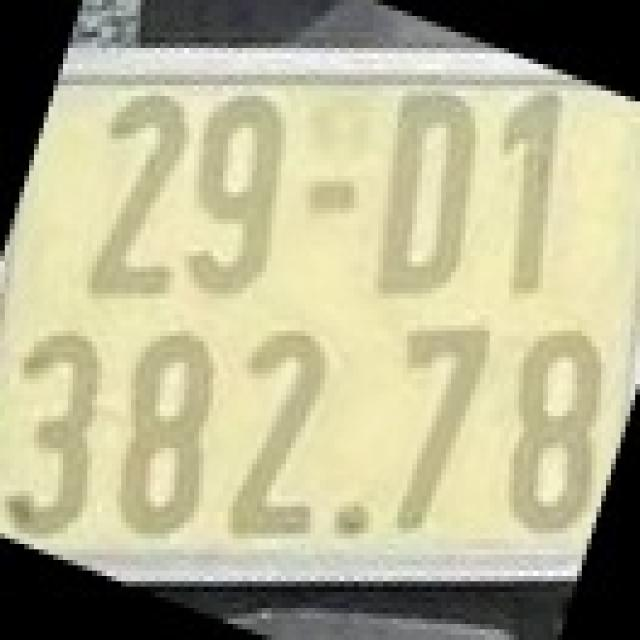1: (490, 85, 572, 299)
2: (223, 323, 330, 541), (82, 88, 184, 301)
3: (5, 322, 102, 530)
7: (388, 315, 494, 533)
8: (114, 323, 216, 536), (502, 320, 604, 533)
9: (186, 88, 288, 296)
D: (368, 85, 485, 299)
